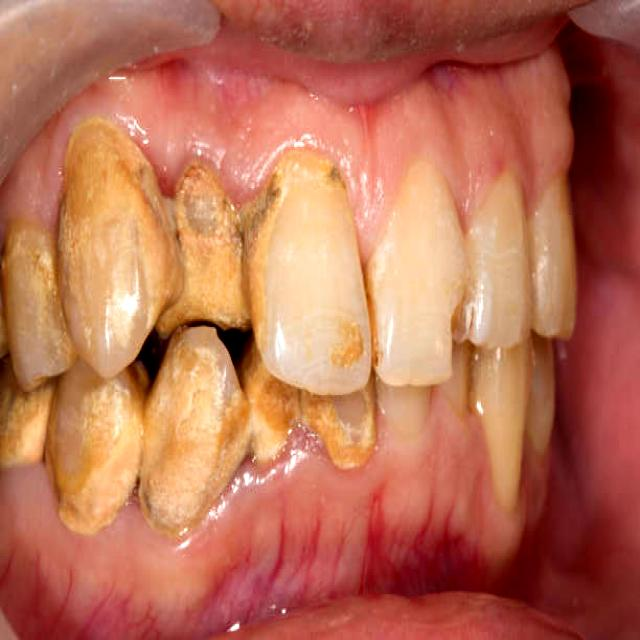calculus: (140, 356, 244, 523), (156, 163, 249, 335), (59, 117, 175, 251), (48, 395, 141, 531), (247, 155, 287, 349), (241, 340, 299, 461), (301, 389, 375, 466), (0, 365, 54, 468), (273, 145, 348, 201), (2, 229, 54, 278), (364, 261, 376, 365)
gingivitis: (17, 379, 532, 608), (7, 55, 573, 226)
